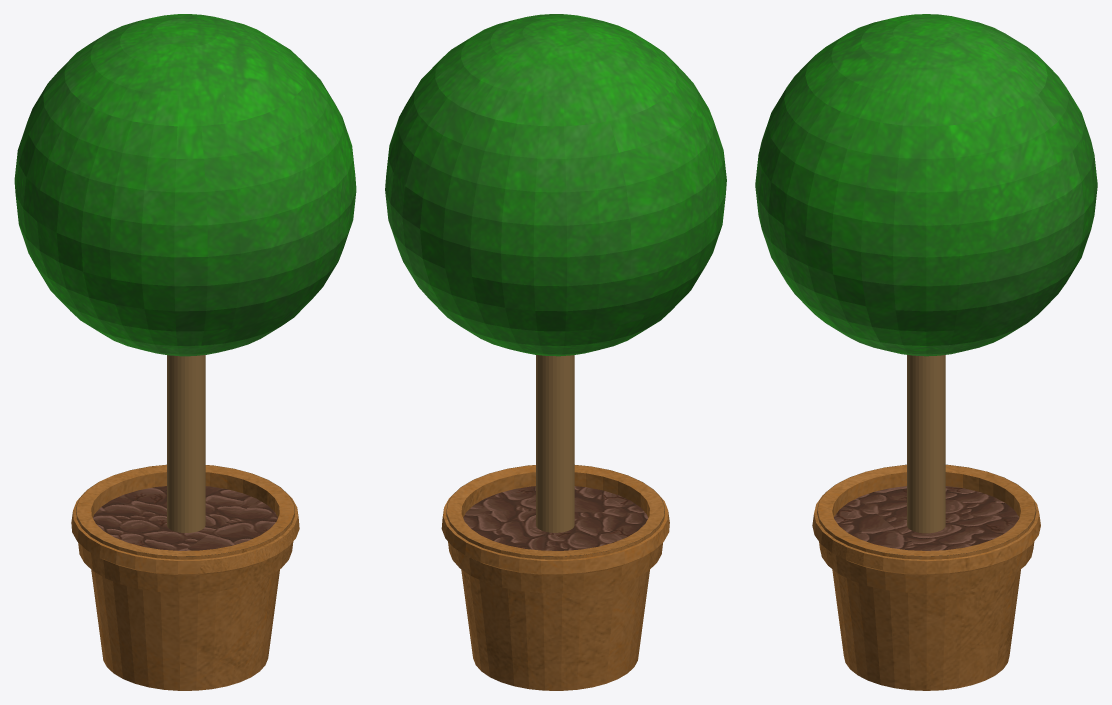
Rendered from blume2.fbx.
The picture shows the model from 3 angles, left to right: view 1: azimuth 30°, elevation 25°; view 2: azimuth 150°, elevation 25°; view 3: azimuth 270°, elevation 25°; orthographic projection.
Parts seen in each view (by area): view 1: Circle; view 2: Circle; view 3: Circle.
Boxes of the visible parts, bbox=[...] form: Circle: bbox=[14, 14, 356, 690]; Circle: bbox=[385, 14, 726, 690]; Circle: bbox=[755, 14, 1097, 690].
Size of the model in its own units: 200 by 403 by 200.
